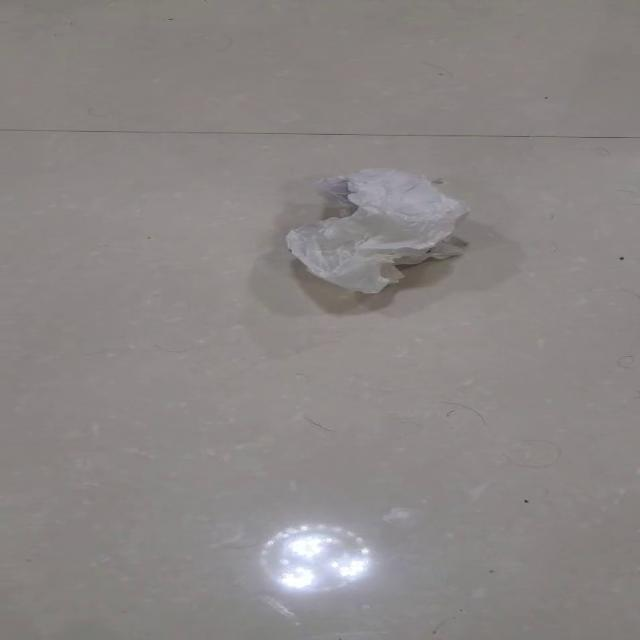plastic: (284, 166, 468, 294)
